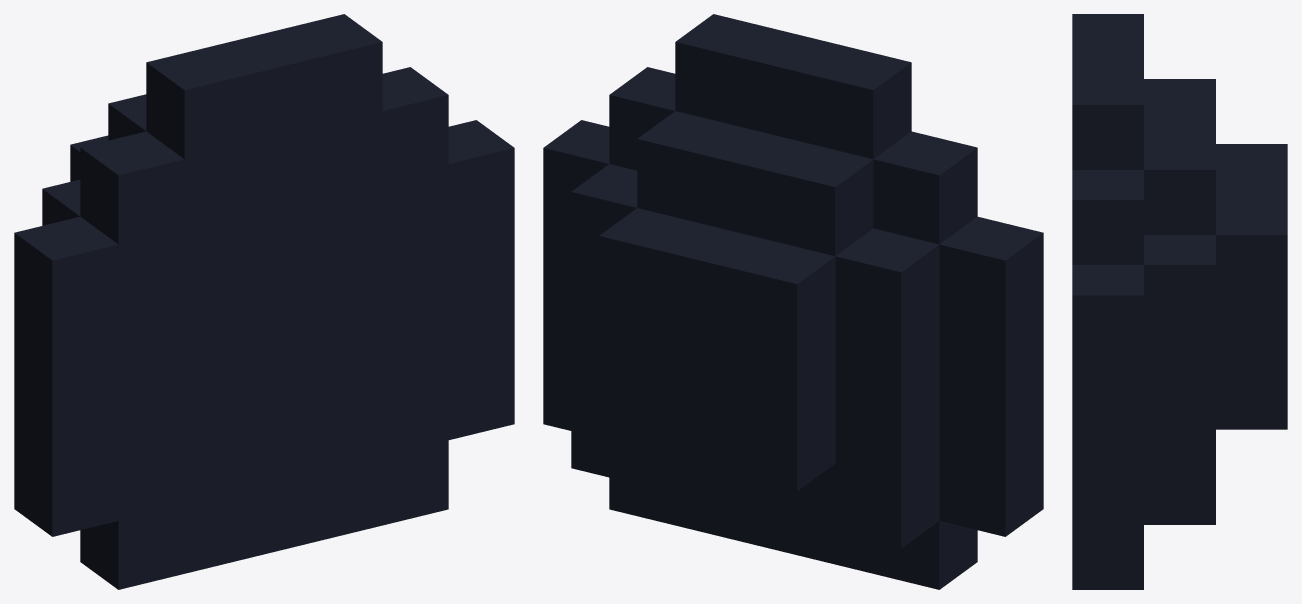
Rendered from BackShortSmall1.obj.
3 views of the same model, side by side, from view 1: azimuth 30°, elevation 25°; view 2: azimuth 150°, elevation 25°; view 3: azimuth 270°, elevation 25° (orthographic). The views are drawn at different scales.
Size of the model in its own units: 7 by 7 by 3.
1 material, 1 textured.
